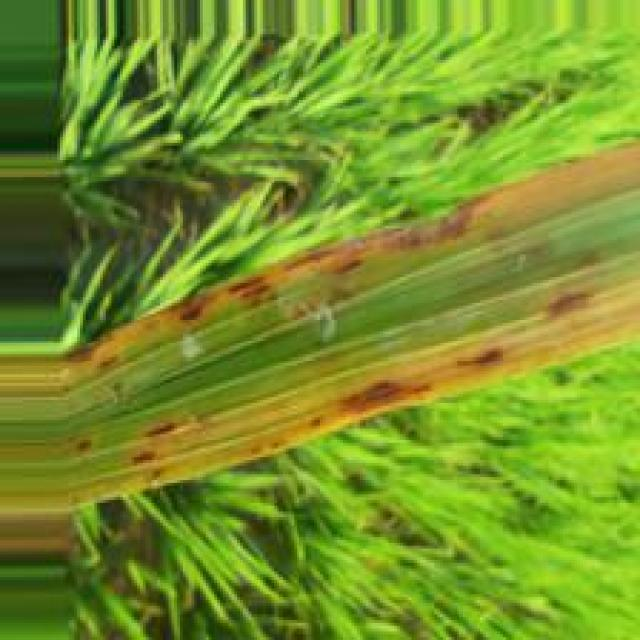Leaf_Blast: (119, 284, 640, 489), (3, 194, 483, 401)
